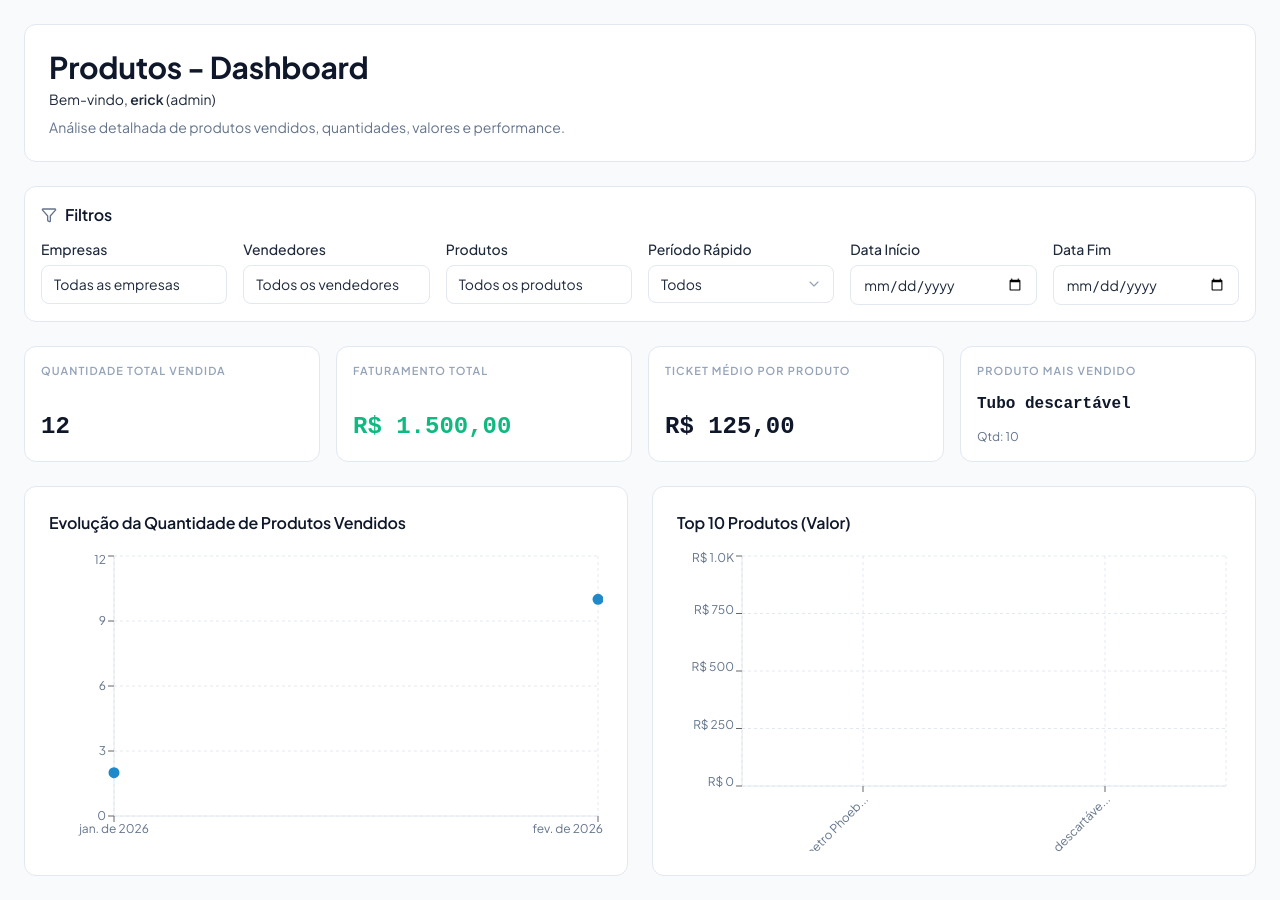
Test: MultiSelect em Produtos › a busca filtra a lista por texto
Click the button "Empresas Todas as empresas". click: click(134, 284)
box: [41,265,227,304]
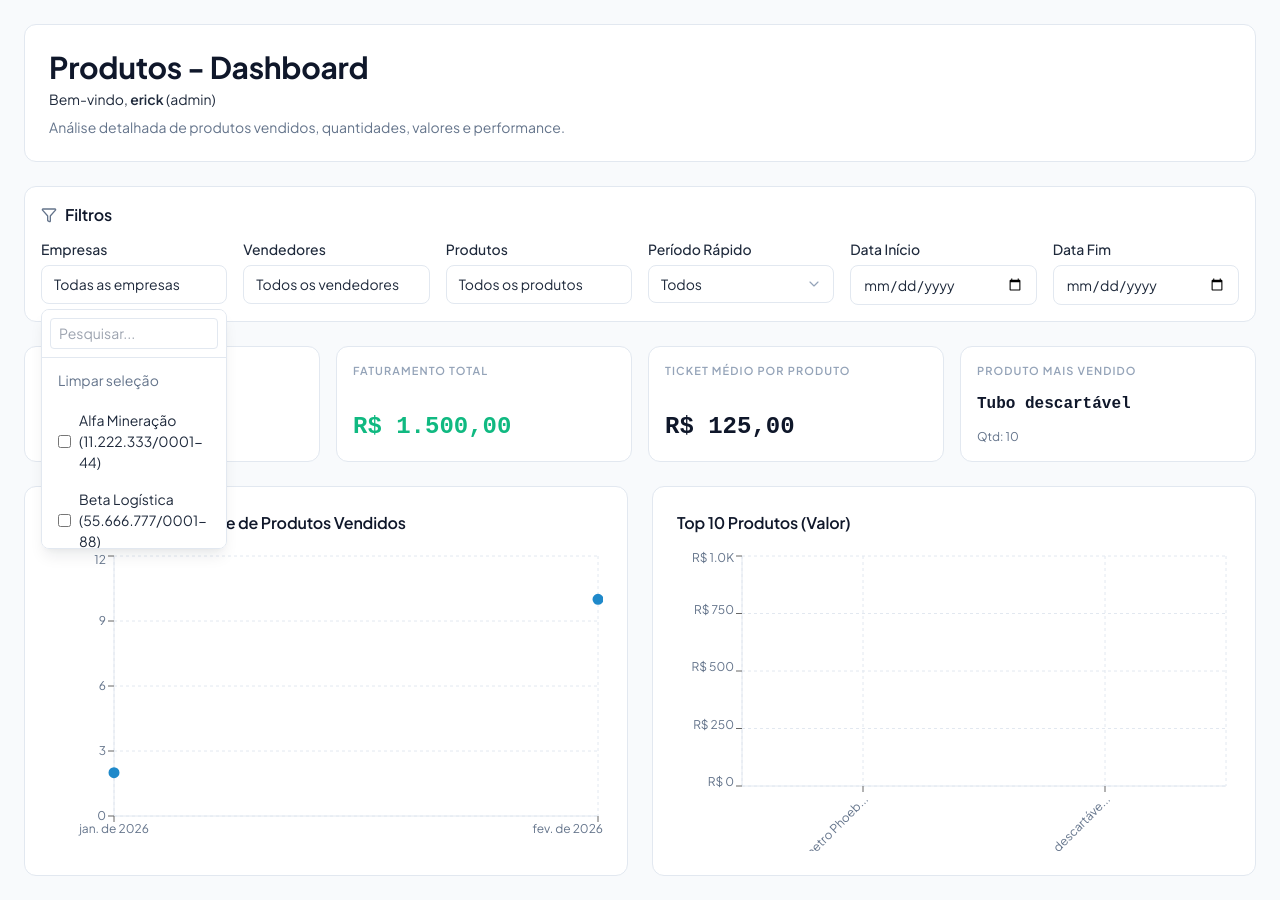
Type "beta" into the field with placeholder "Pesquisar...". click: (134, 334)
box: [50,318,218,349]
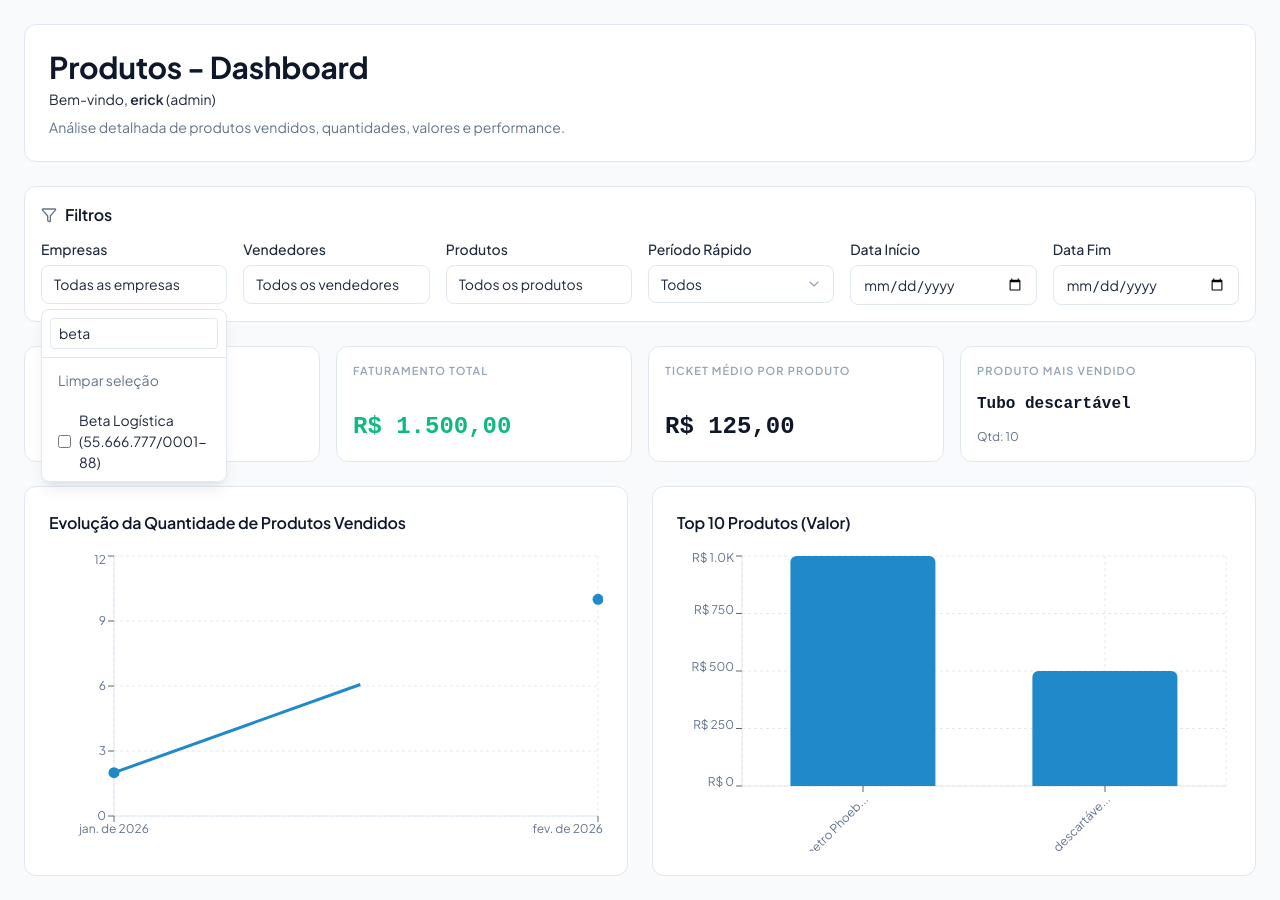
expect the checkbox labelled "Beta Logística (55.666.777/0001-88)" is shown: met, box [58,435,71,448]
expect the text "Alfa" is gone: met
